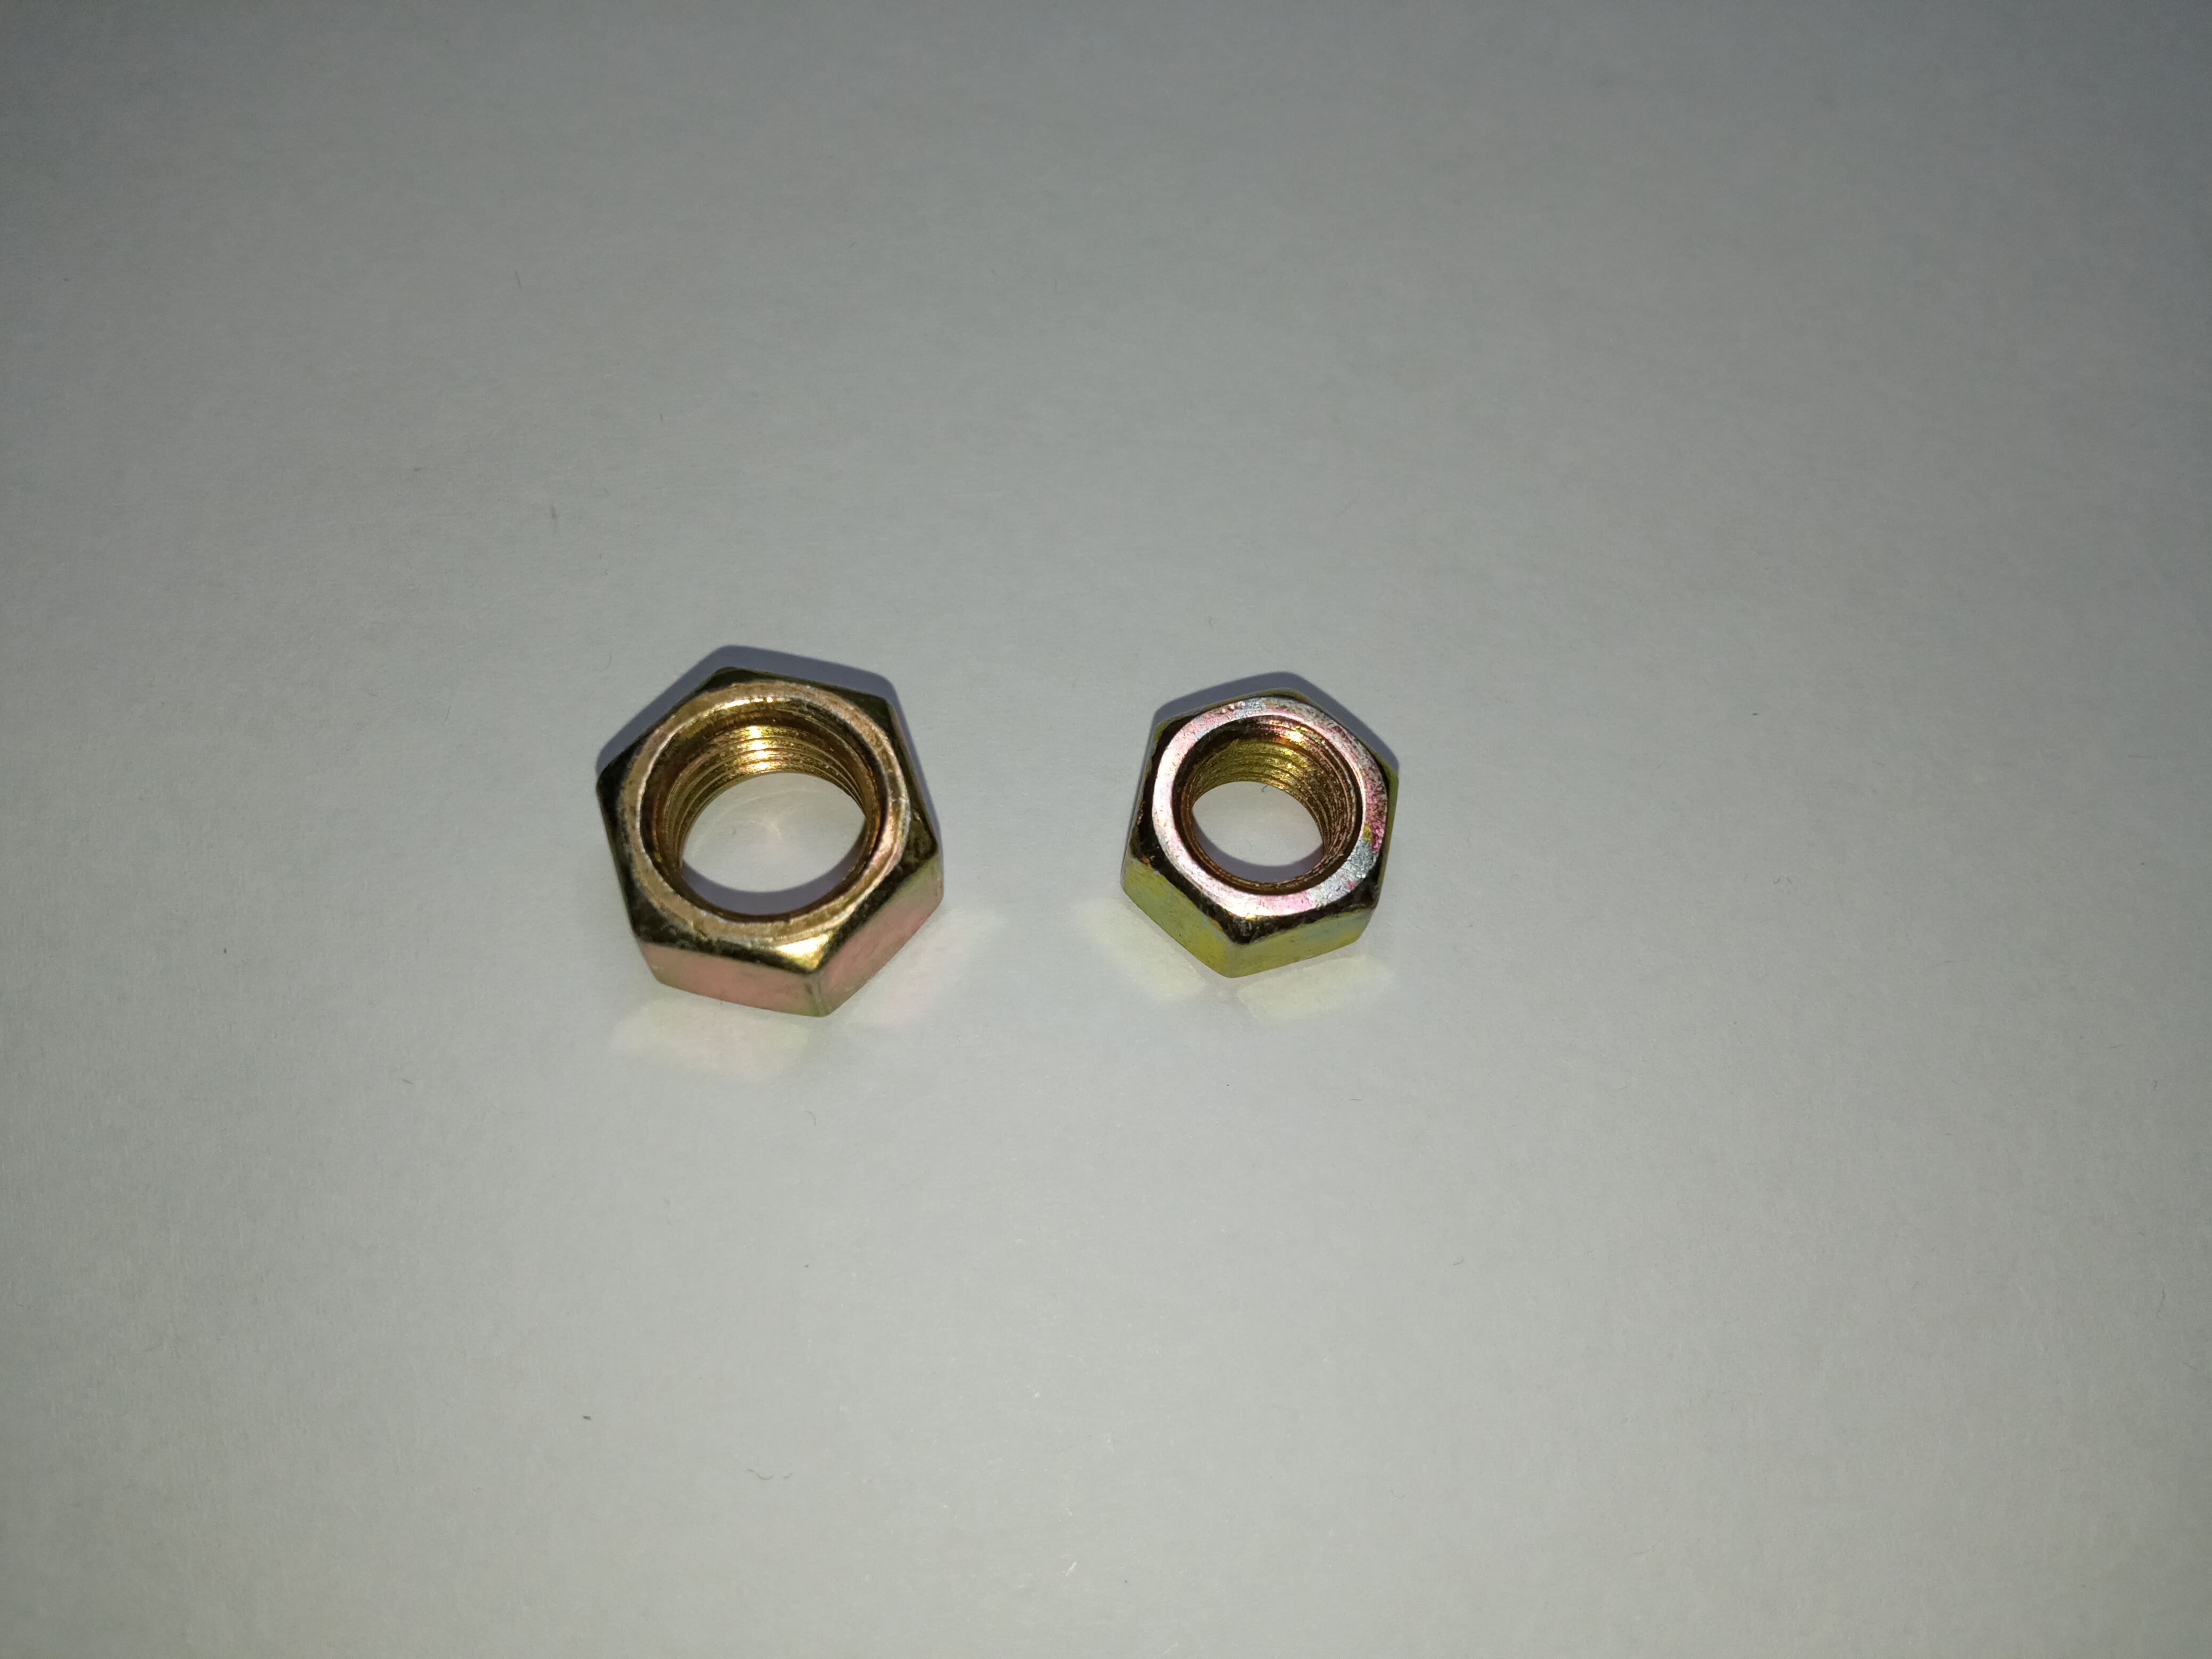m10: (594, 659, 958, 1002)
m8: (1123, 681, 1392, 957)
